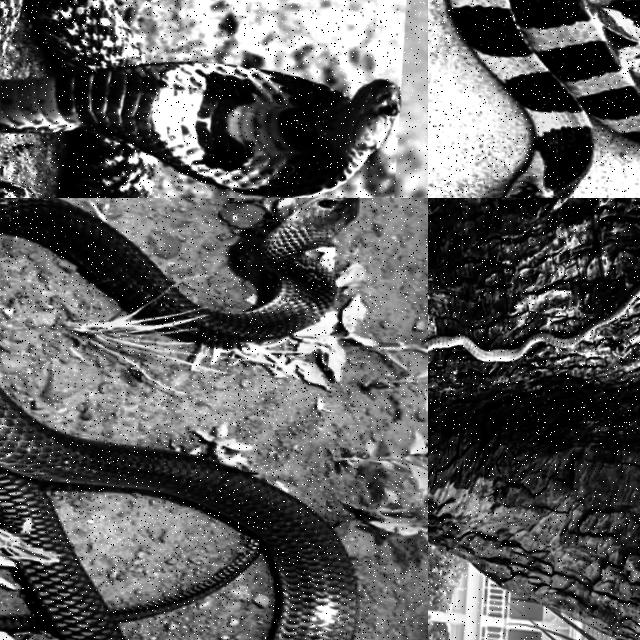Bungarus fasciatus: (450, 0, 639, 197)
Chrysopelea ornata: (428, 283, 639, 363)
Naja kaouthia: (0, 391, 355, 639)
Ophiophagus hannah: (0, 0, 399, 197)
